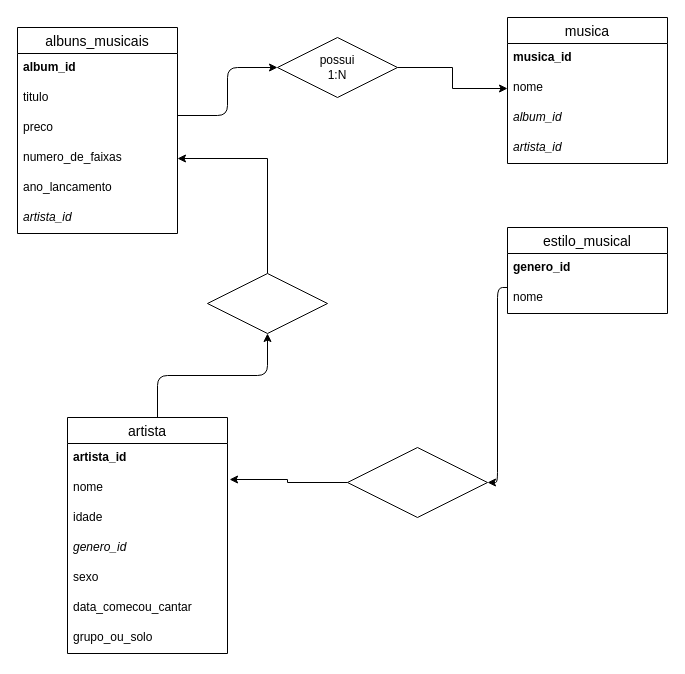
Image size: 685x674. Some labels were removed from this diagram. The centre of each missing label's shape, as x and y in pixels:
"pertence a vários 1:N" belongs at [417,482].
"produz 1:N" belongs at [267,303].
